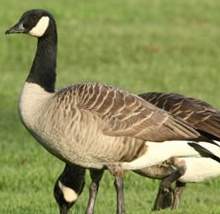goose: (2, 5, 220, 208)
